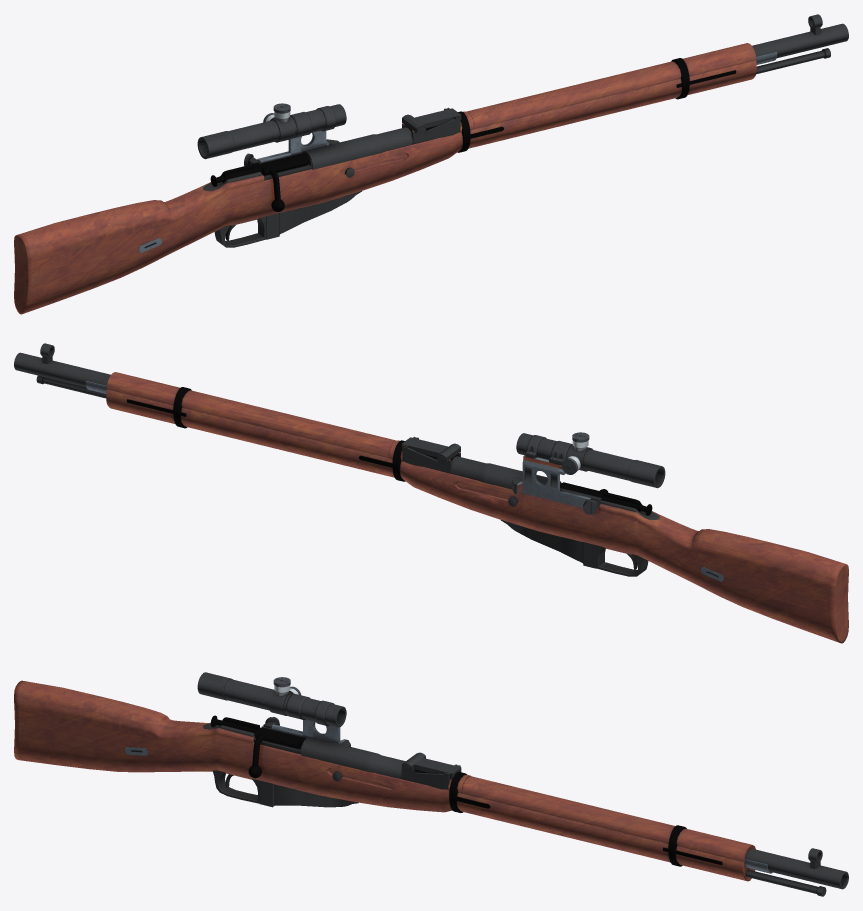
File: mxng.obj
3 renders of one model, top to bottom at view 1: azimuth 30°, elevation 25°; view 2: azimuth 150°, elevation 25°; view 3: azimuth 330°, elevation 25°, orthographic.
Visible parts, largest first — view 1: Tube003; view 2: Tube003; view 3: Tube003.
Boxes of the visible parts, x1,y1,x2,y2 form: Tube003: (14, 14, 848, 314); Tube003: (14, 343, 848, 643); Tube003: (14, 672, 848, 896).
Bounding box in the file's own units: 46.7 × 7.75 × 2.9.
1 material, 1 textured.
